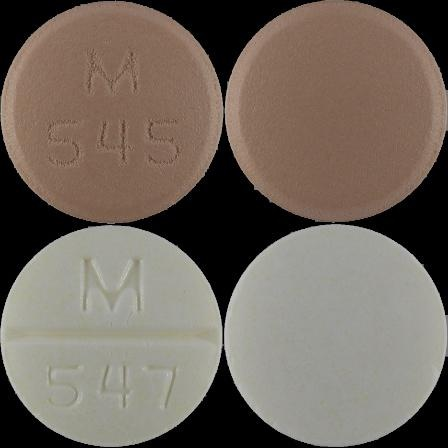0378-3545: (0, 0, 224, 224)
